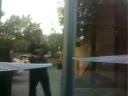window: (0, 0, 50, 96), (56, 72, 87, 96), (108, 77, 128, 95), (52, 36, 75, 50), (103, 50, 112, 55)
